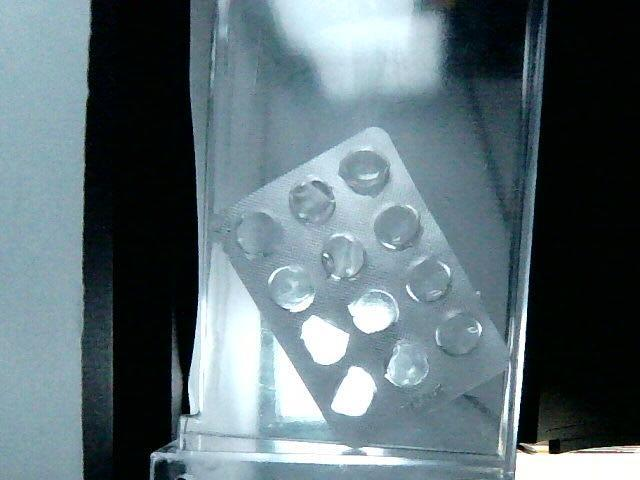Light Front: (214, 122, 515, 451)
No Pill Front: (293, 314, 351, 372), (433, 309, 487, 365), (286, 174, 339, 224), (402, 255, 455, 305), (264, 266, 316, 315), (374, 201, 424, 251), (348, 286, 399, 335), (329, 371, 378, 421), (381, 344, 433, 391), (342, 148, 392, 195), (318, 233, 366, 281), (236, 211, 281, 258)
